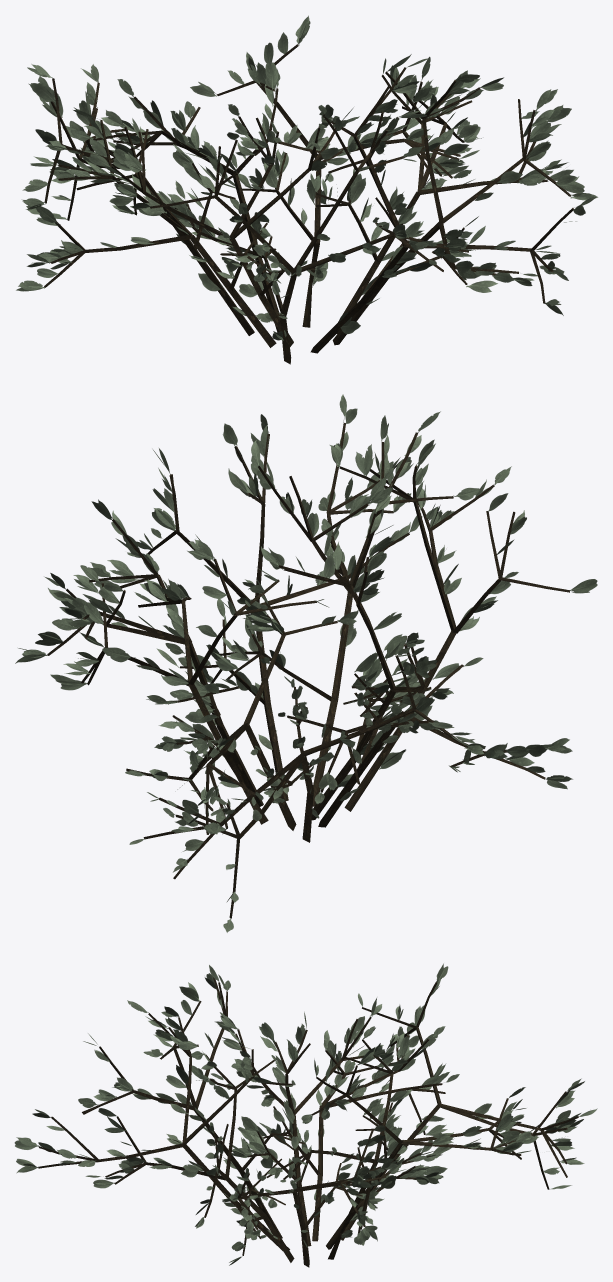
Rendered from thorn_scrub_v01_LOD1.glb.
The picture shows the model from 3 angles, top to bottom: view 1: azimuth 30°, elevation 25°; view 2: azimuth 150°, elevation 25°; view 3: azimuth 270°, elevation 25°; orthographic projection. The views are drawn at different scales.
Parts seen in each view (by area): view 1: thorn_scrub_v01_LOD1; view 2: thorn_scrub_v01_LOD1; view 3: thorn_scrub_v01_LOD1.
Part boxes in pixels (x1=…): thorn_scrub_v01_LOD1: x1=16, y1=15, x2=597, y2=364; thorn_scrub_v01_LOD1: x1=15, y1=394, x2=597, y2=932; thorn_scrub_v01_LOD1: x1=14, y1=963, x2=597, y2=1267.
Size of the model in its own units: 2.17 by 1.26 by 2.65.
Materials: 2 (2 with a texture image).
